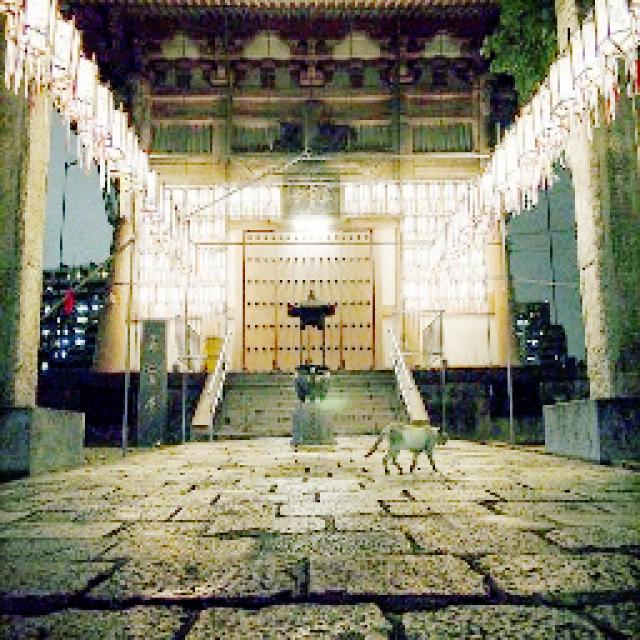cat: (366, 416, 451, 478)
